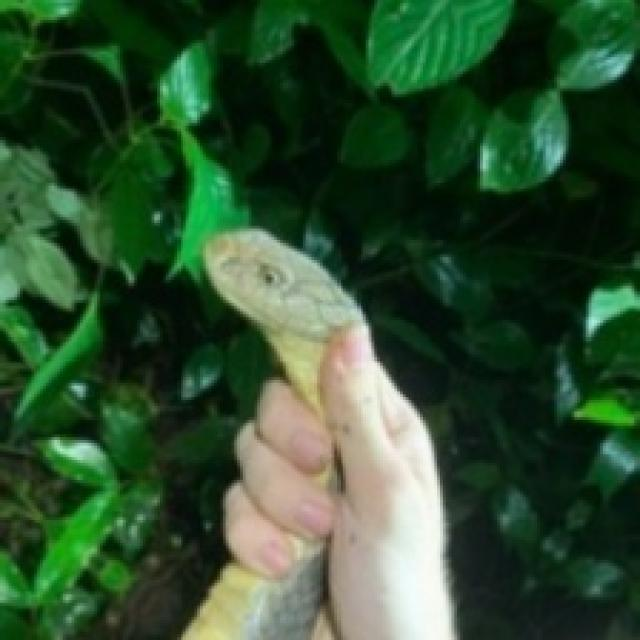king cobra: (180, 400, 331, 637), (203, 229, 360, 429)
